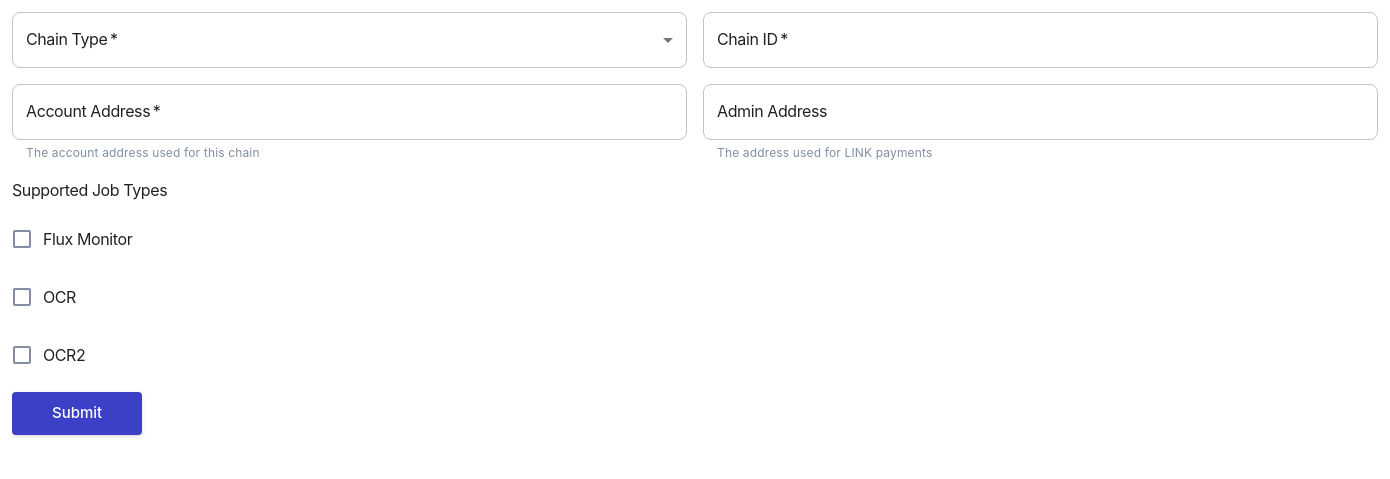
Test case: ChainConfigurationForm › validates top level input (with chains NOT available)
The width and height of the screenshot is (1390, 479).
Step 1. Click the button "Submit" → (77, 413), box [12, 392, 142, 435]
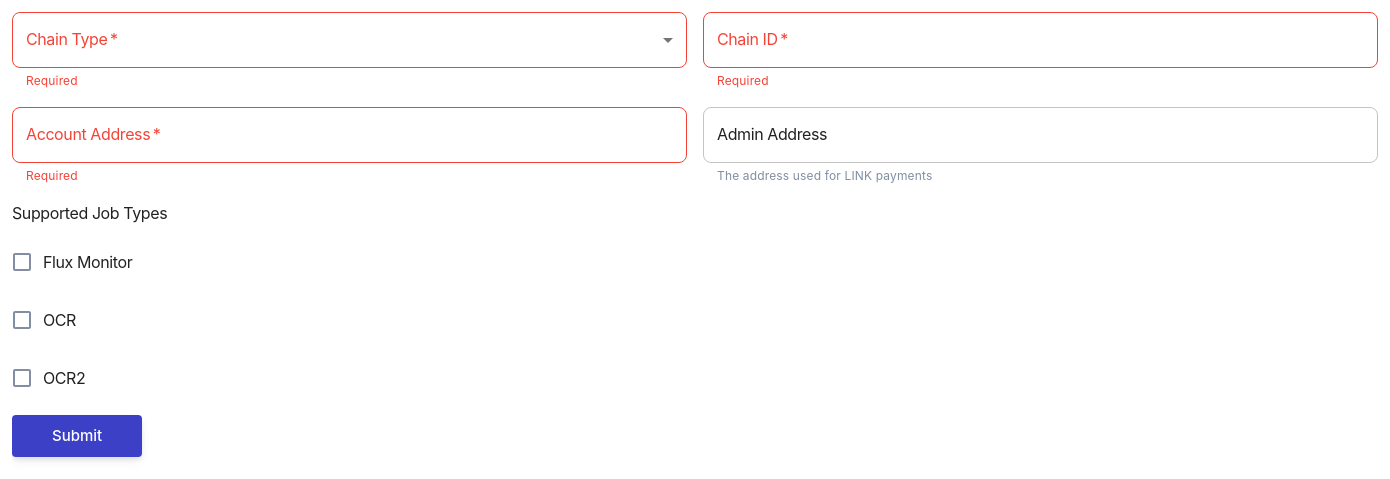
Expected: the text with test id "chainID-helper-manual-text" reads "Required", [717, 73, 769, 88]
Expected: the text with test id "accountAddr-helper-manual-text" reads "Required", [26, 168, 78, 183]
